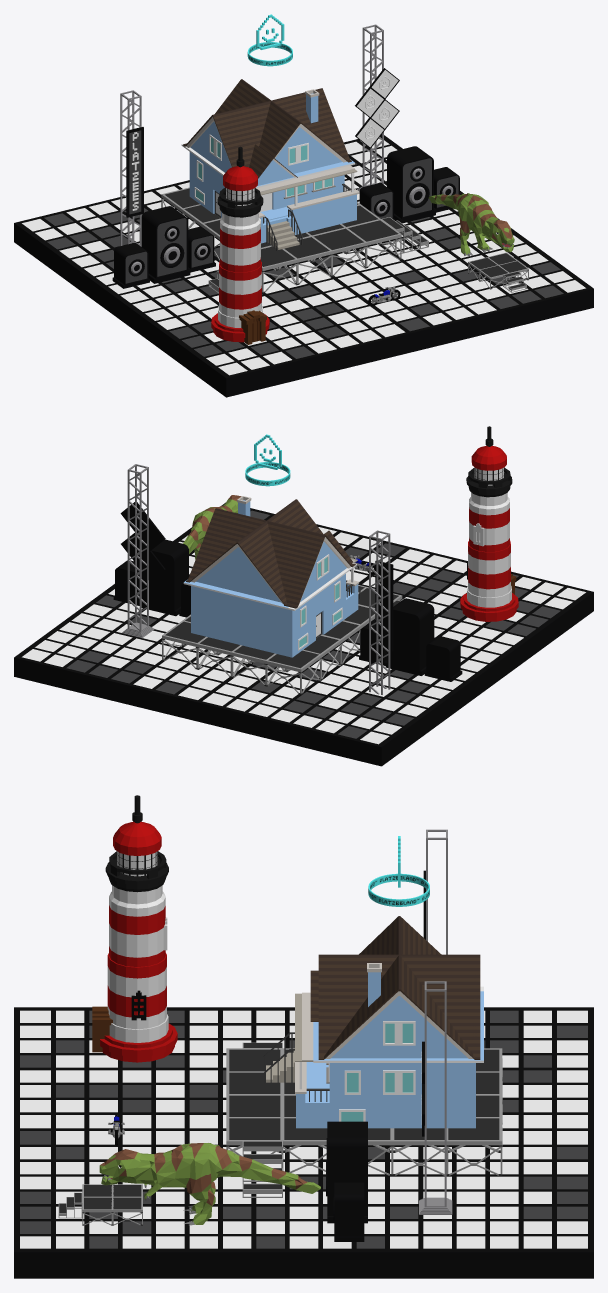
3 renders of one model, top to bottom at view 1: azimuth 30°, elevation 25°; view 2: azimuth 150°, elevation 25°; view 3: azimuth 270°, elevation 25°, orthographic. The views are drawn at different scales.
Parts seen in each view (by area): view 1: Cube.008, Cube.1594, OBJRANDOM_LIGHTHOUSE, ANIMAL_TREX, TYPE_PREMIUM; view 2: Cube.008, Cube.1594, OBJRANDOM_LIGHTHOUSE, ANIMAL_TREX, TYPE_PREMIUM; view 3: Cube.008, Cube.1594, OBJRANDOM_LIGHTHOUSE, ANIMAL_TREX, TYPE_PREMIUM.
Boxes of the visible parts, box(x1,y1,x2,y2) form: Cube.008: box(14, 24, 593, 397); Cube.1594: box(181, 79, 359, 250); OBJRANDOM_LIGHTHOUSE: box(211, 146, 269, 344); ANIMAL_TREX: box(428, 193, 514, 256); TYPE_PREMIUM: box(247, 14, 292, 66); Cube.008: box(14, 464, 593, 766); Cube.1594: box(183, 496, 360, 657); OBJRANDOM_LIGHTHOUSE: box(460, 426, 518, 621); ANIMAL_TREX: box(183, 495, 241, 559); TYPE_PREMIUM: box(245, 434, 290, 486); Cube.008: box(14, 829, 593, 1278); Cube.1594: box(263, 916, 483, 1128); OBJRANDOM_LIGHTHOUSE: box(92, 795, 177, 1062); ANIMAL_TREX: box(99, 1143, 320, 1225); TYPE_PREMIUM: box(368, 836, 429, 906).
Bounding box in the file's own units: 4000 × 2462 × 4000.
Materials: 43 (3 with a texture image).
